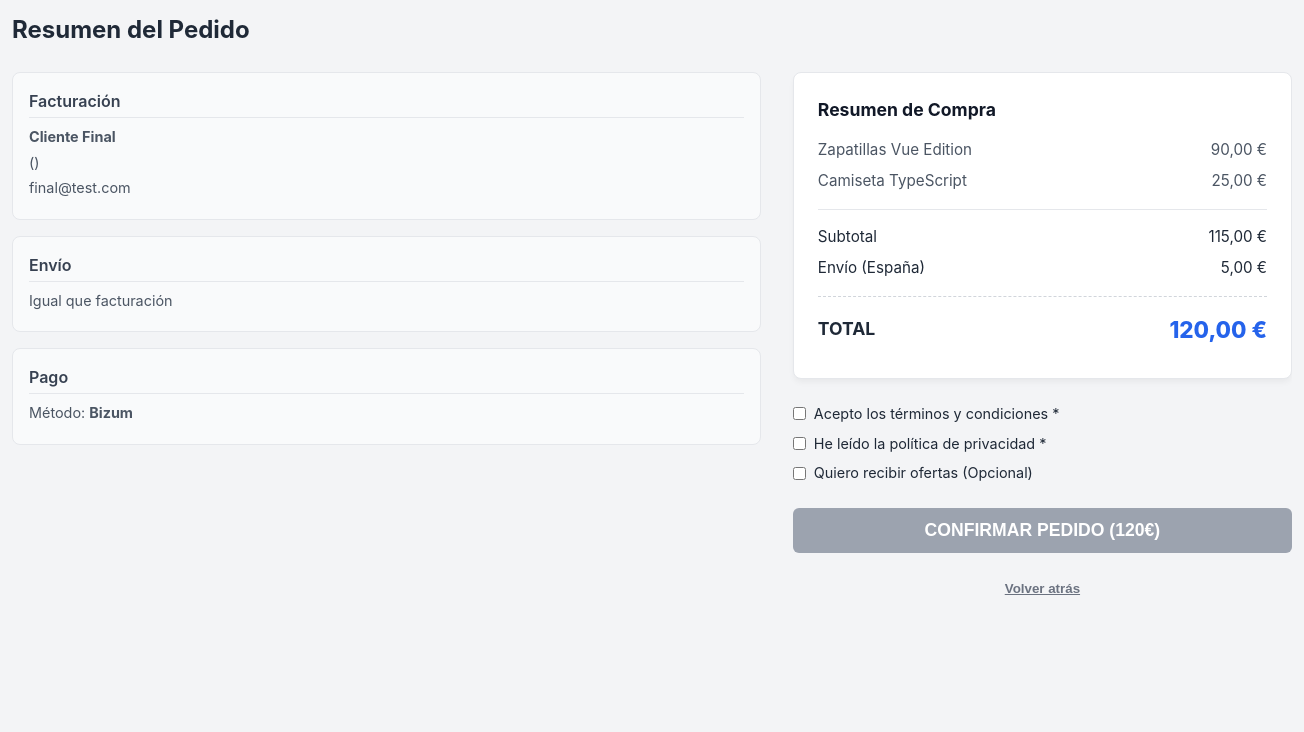
Test: Step4Summary.vue › Habilita el botón solo al marcar los checkboxes obligatorios
// Marcamos Términos
Click the checkbox labelled "Acepto los términos y condiciones *".
click(799, 414)  # box [793, 408, 806, 420]
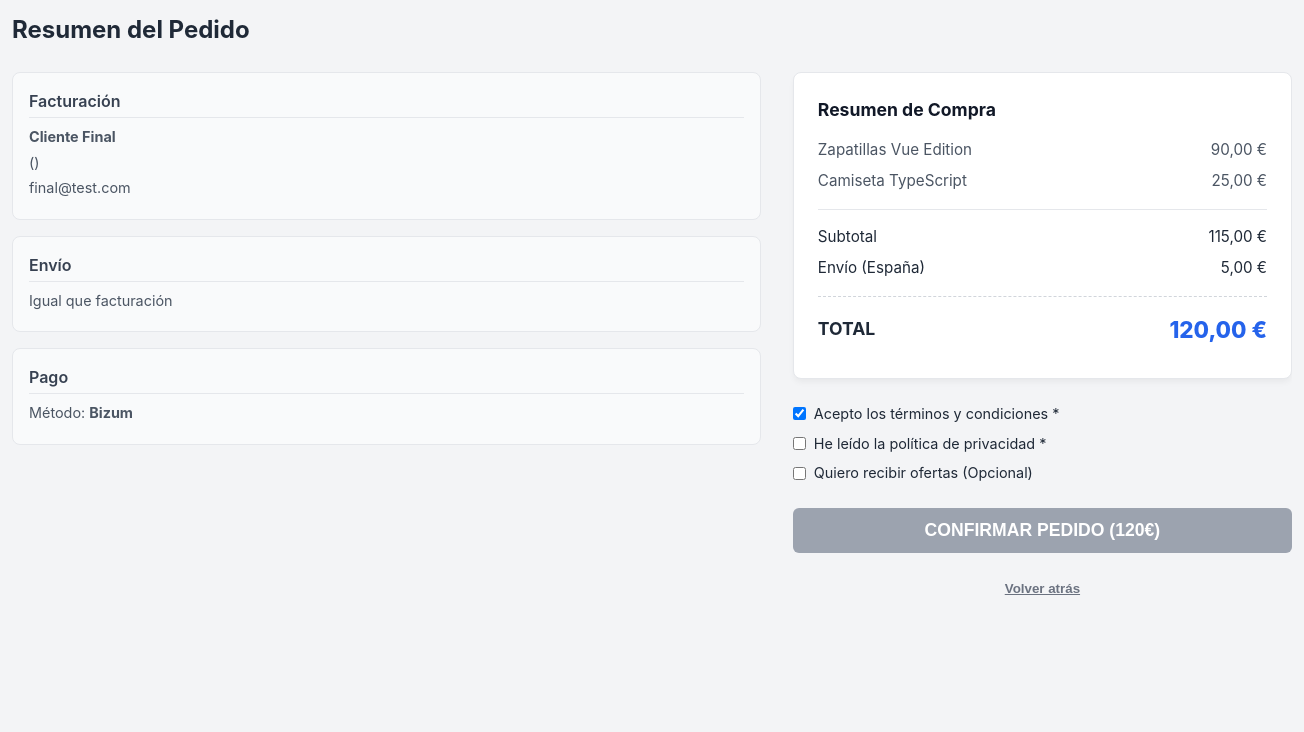
Check: the button with class "btn-block" is disabled, box [793, 508, 1292, 553]
// Marcamos Privacidad
Click the checkbox labelled "He leído la política de privacidad *".
click(799, 444)  # box [793, 437, 806, 450]
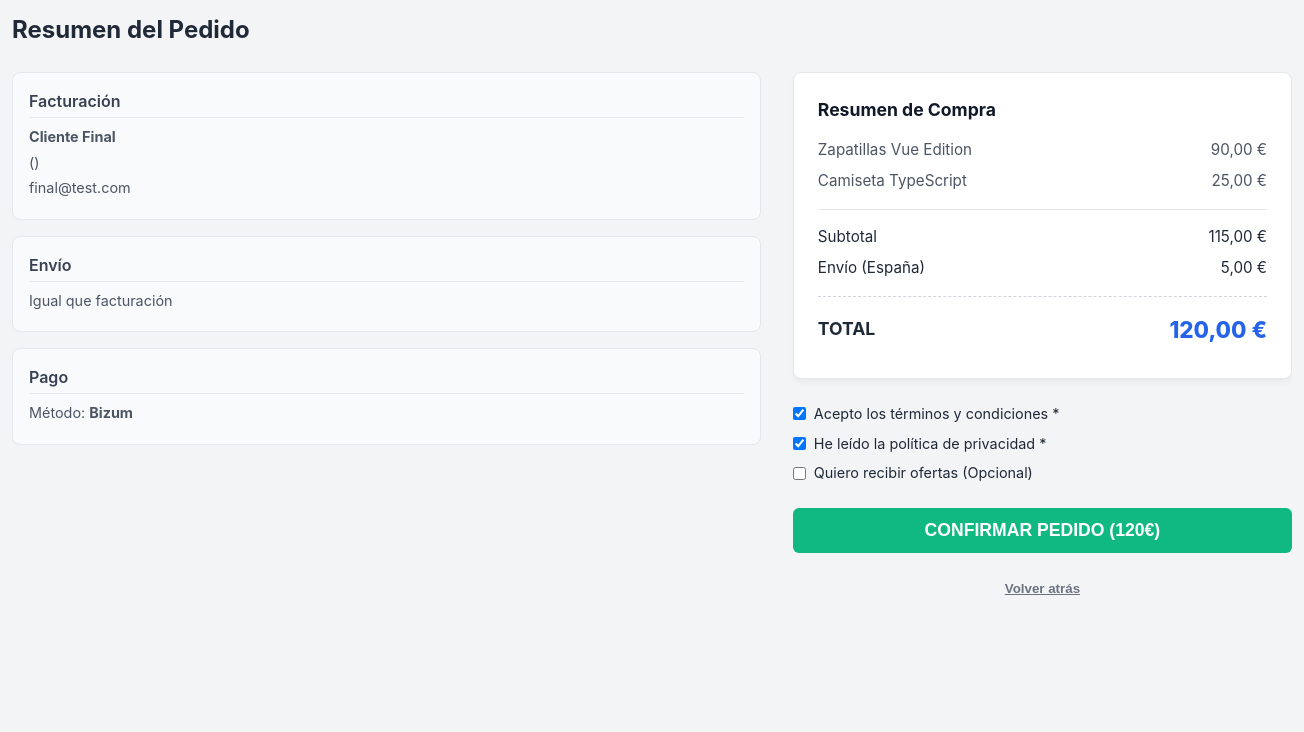
Check: the button with class "btn-block" is enabled, box [793, 508, 1292, 553]
